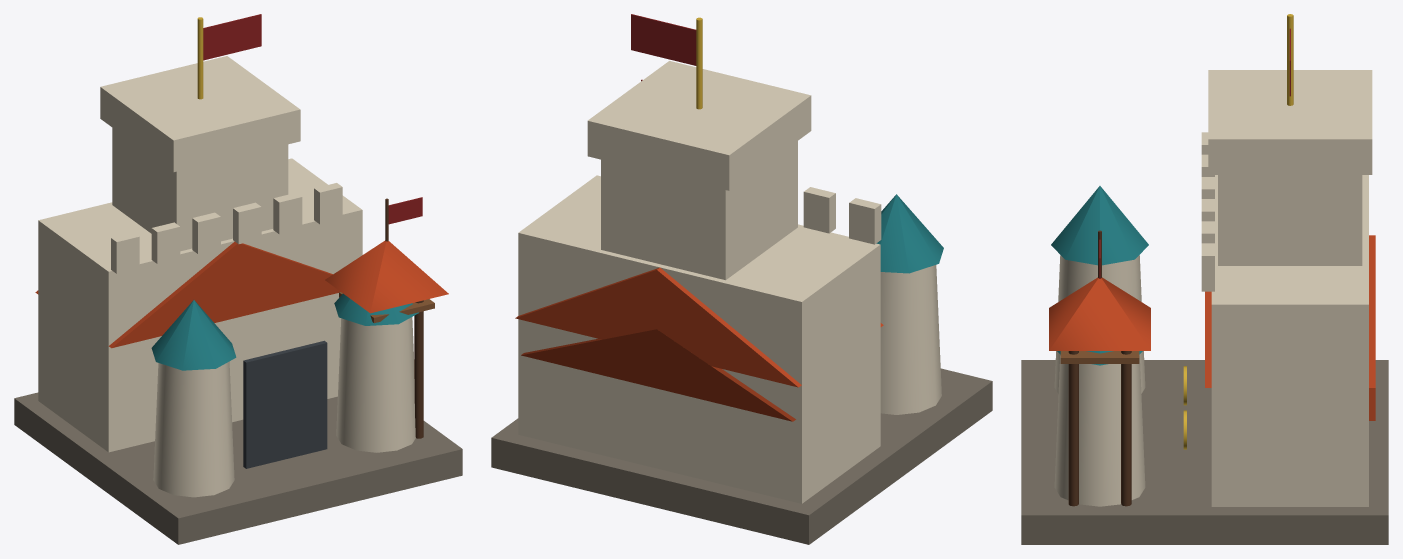
Rendered from barracks.glb.
3 views of the same model, side by side, from view 1: azimuth 30°, elevation 25°; view 2: azimuth 150°, elevation 25°; view 3: azimuth 270°, elevation 25° (orthographic). The views are drawn at different scales.
Visible parts, largest first — view 1: visual_level_3, visual_level_2; view 2: visual_level_3, visual_level_2, visual_level_1; view 3: visual_level_3, visual_level_2.
Part boxes in pixels (x1,y1,x2,y2): visual_level_3: (14, 14, 462, 544); visual_level_2: (35, 197, 448, 438); visual_level_3: (491, 14, 992, 544); visual_level_2: (515, 79, 883, 387); visual_level_1: (521, 329, 795, 421); visual_level_3: (1021, 14, 1388, 544); visual_level_2: (1049, 230, 1375, 506).
Size of what is drawn, in the model's own units: 5.6 by 7.7 by 5.6.
